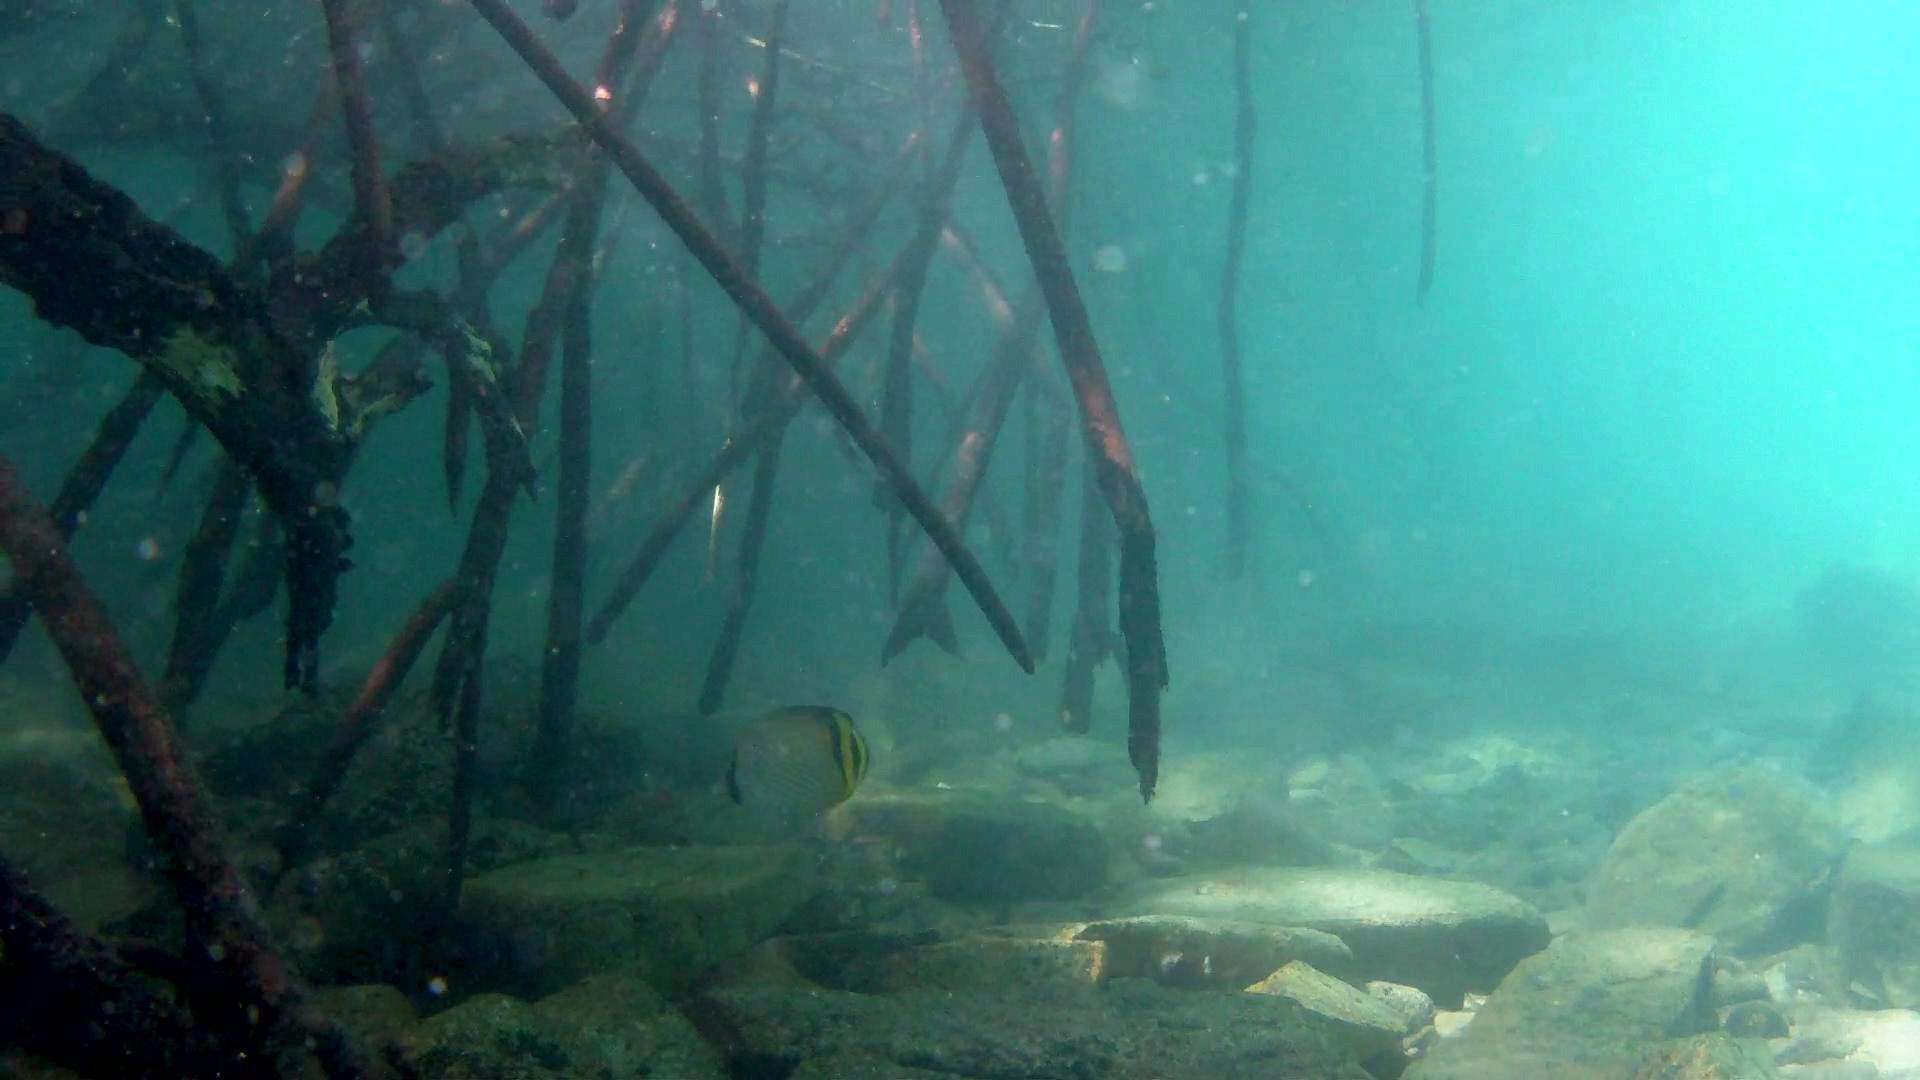chaetodon vagabundus: (709, 703, 872, 816)
